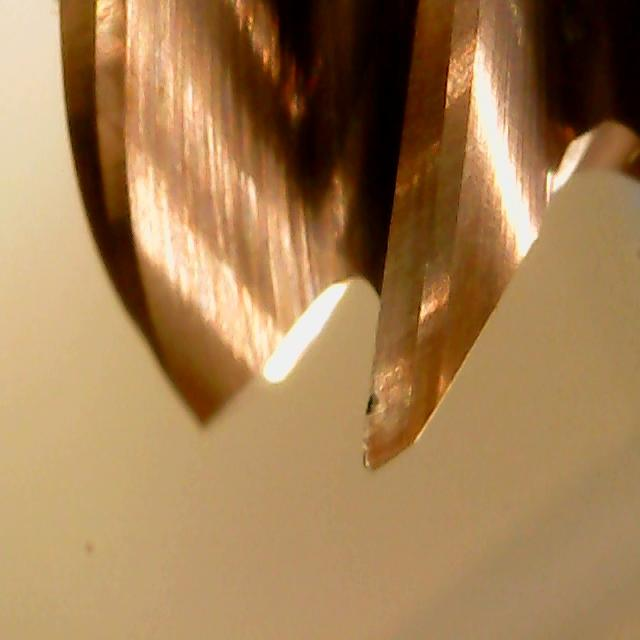Tool-wear-class-0: (358, 137, 468, 474)
